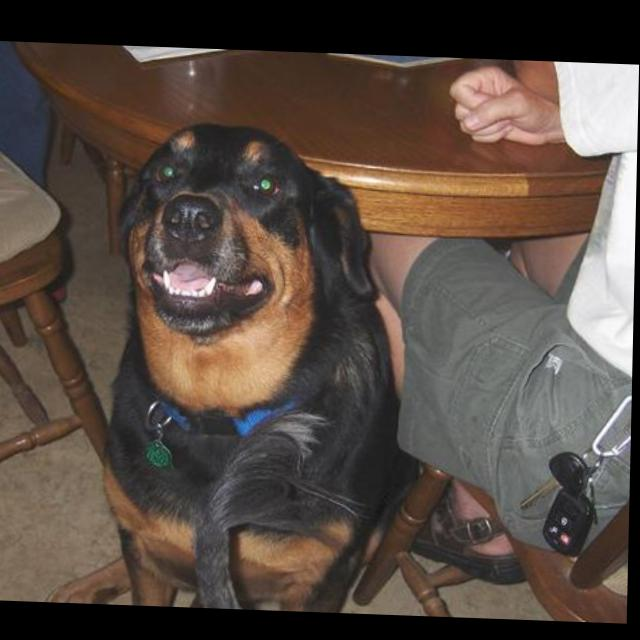person: (362, 52, 640, 588)
rottweiler: (46, 115, 430, 613)
